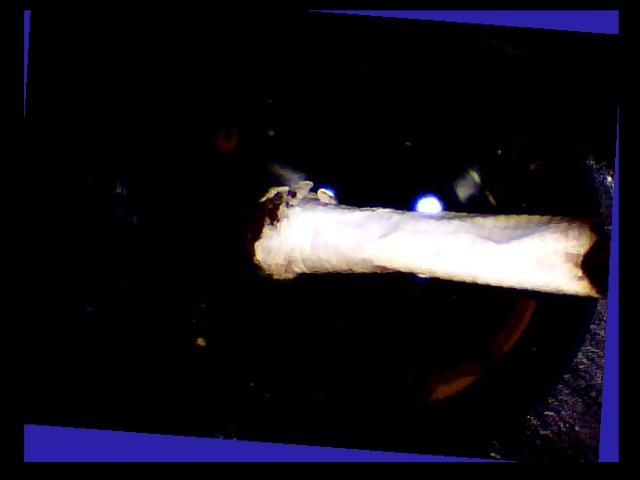megot: (222, 166, 612, 314)
